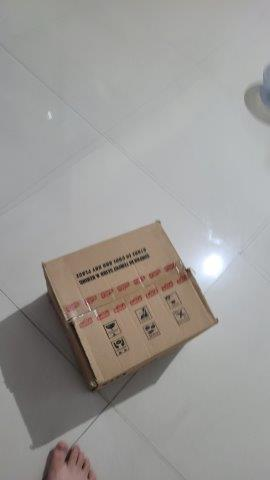kardus: (41, 220, 217, 393)
